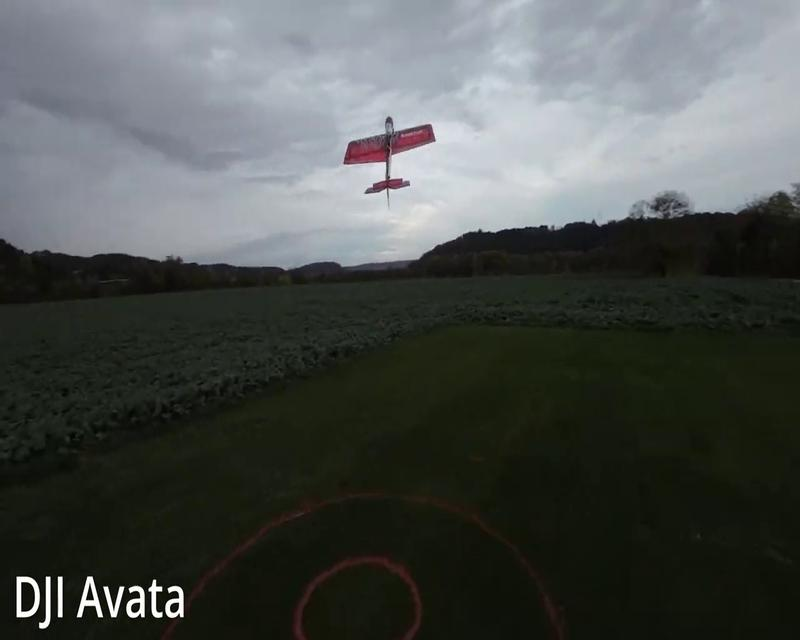UAV: (342, 115, 436, 208)
